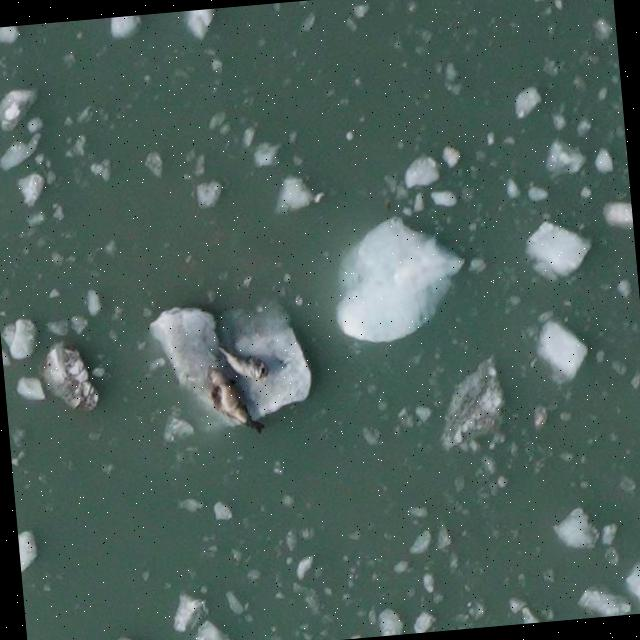seal: (192, 357, 269, 448), (209, 338, 274, 385)
